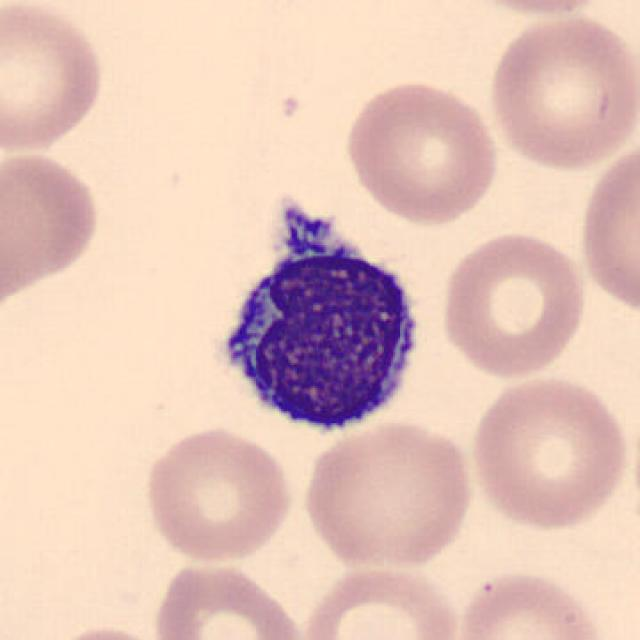Lymphocyte: (204, 185, 436, 450)
RBC: (297, 418, 478, 571), (466, 370, 633, 534), (484, 7, 638, 175), (340, 76, 503, 227), (438, 227, 590, 381), (139, 423, 295, 566), (0, 0, 108, 158), (0, 144, 103, 306), (293, 560, 463, 640), (150, 557, 308, 640), (574, 134, 638, 323), (452, 566, 610, 640), (447, 0, 620, 19), (41, 622, 176, 640)
